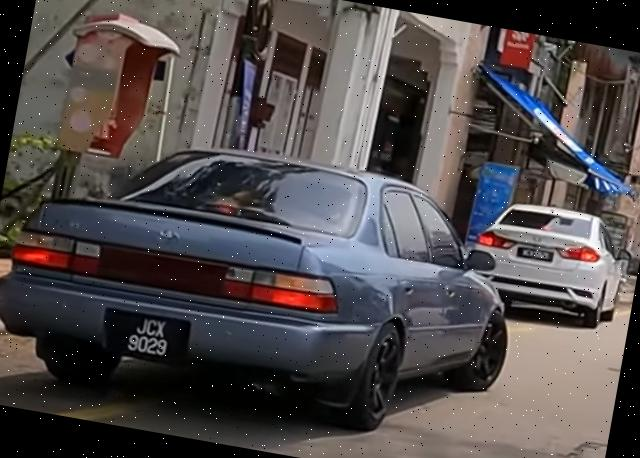License_Plate: (103, 311, 191, 366), (519, 247, 554, 263)
car: (1, 110, 534, 457), (459, 194, 639, 334)
